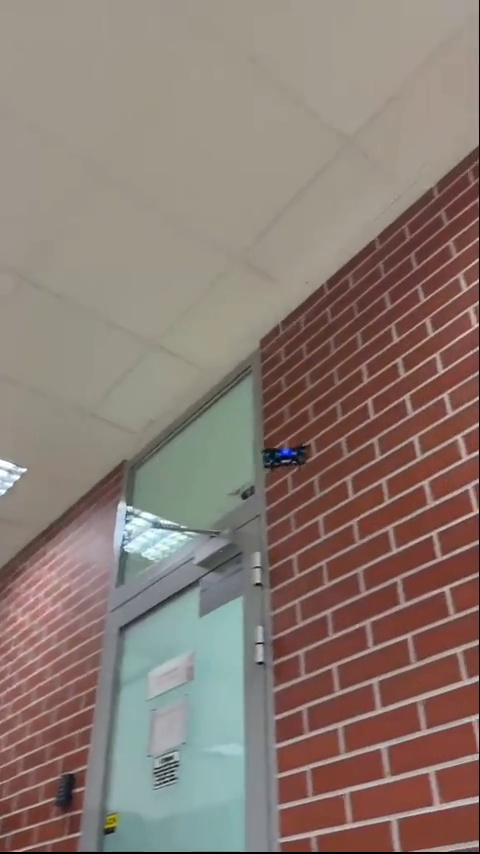drone: (260, 437, 316, 473)
